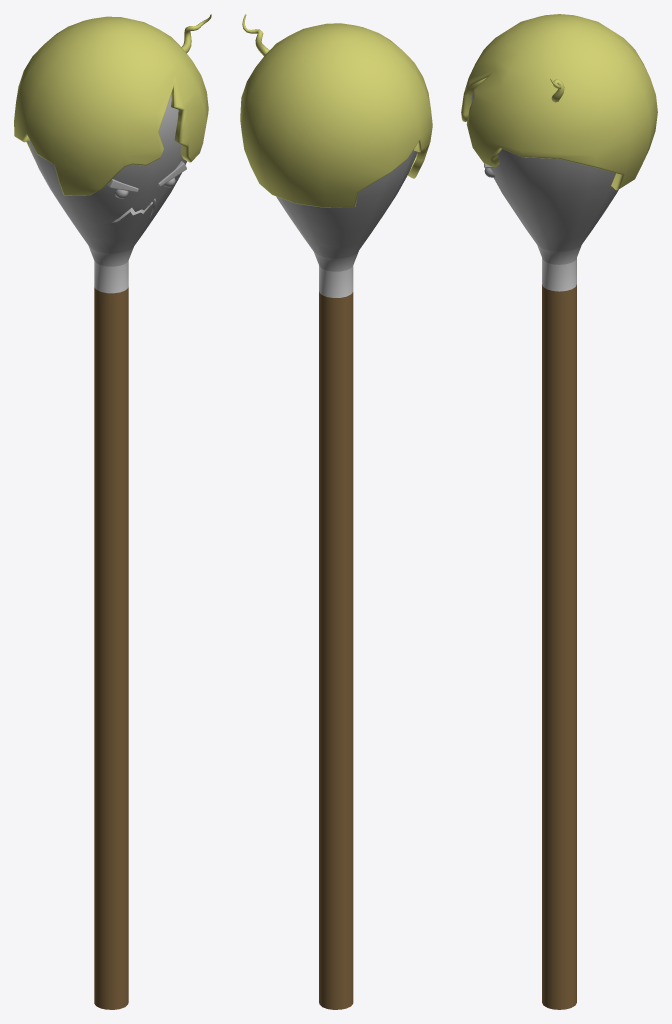
The model's file is Enemy_EarPick_WithoutHands.fbx.
The picture shows the model from 3 angles, left to right: view 1: azimuth 30°, elevation 25°; view 2: azimuth 150°, elevation 25°; view 3: azimuth 270°, elevation 25°; orthographic projection.
Parts seen in each view (by area): view 1: Body, Hair; view 2: Body, Hair; view 3: Body, Hair.
Boxes of the visible parts, x1=… form: Body: x1=28, y1=95, x2=186, y2=1009; Hair: x1=14, y1=16, x2=208, y2=195; Body: x1=276, y1=150, x2=417, y2=1009; Hair: x1=240, y1=23, x2=432, y2=207; Body: x1=471, y1=92, x2=618, y2=1009; Hair: x1=461, y1=14, x2=657, y2=190.
Bounding box in the file's own units: 1.15 × 5.9 × 1.07.
